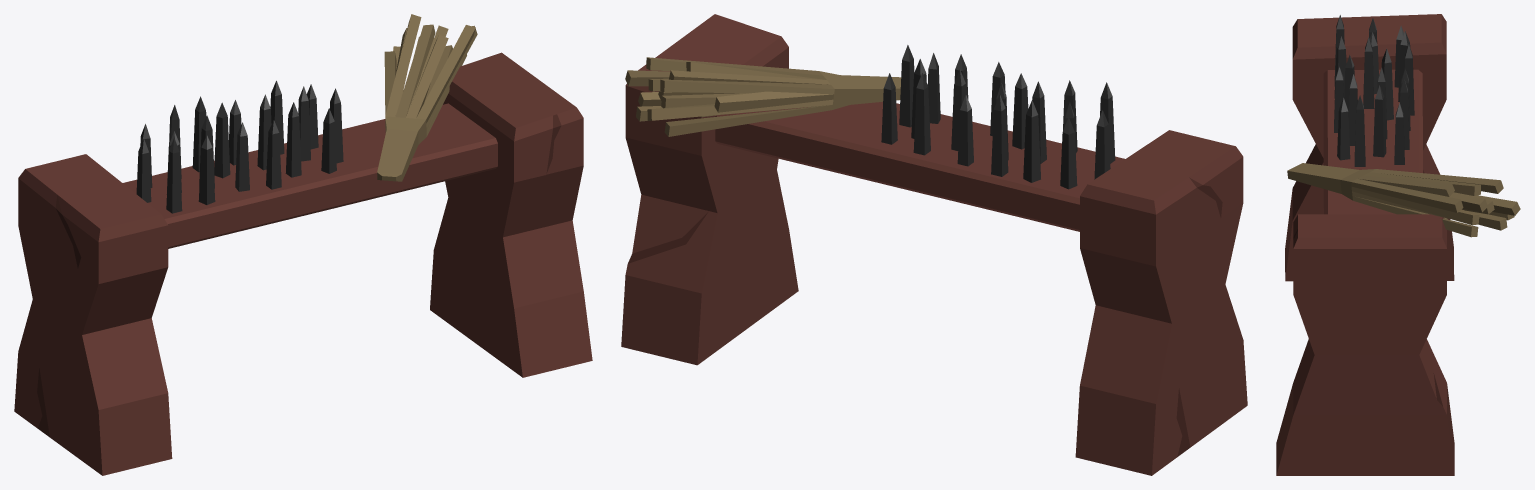
Rendered from linen_comb.fbx.
The picture shows the model from 3 angles, left to right: view 1: azimuth 30°, elevation 25°; view 2: azimuth 150°, elevation 25°; view 3: azimuth 270°, elevation 25°; orthographic projection. The views are drawn at different scales.
Visible parts, largest first — view 1: linen_comb; view 2: linen_comb; view 3: linen_comb.
Part boxes in pixels (box(x1,y1,x2,y2)): linen_comb: box(14, 14, 592, 475); linen_comb: box(621, 14, 1247, 475); linen_comb: box(1276, 14, 1520, 475).
Size of the model in its own units: 71.16 by 40.97 by 32.31.
